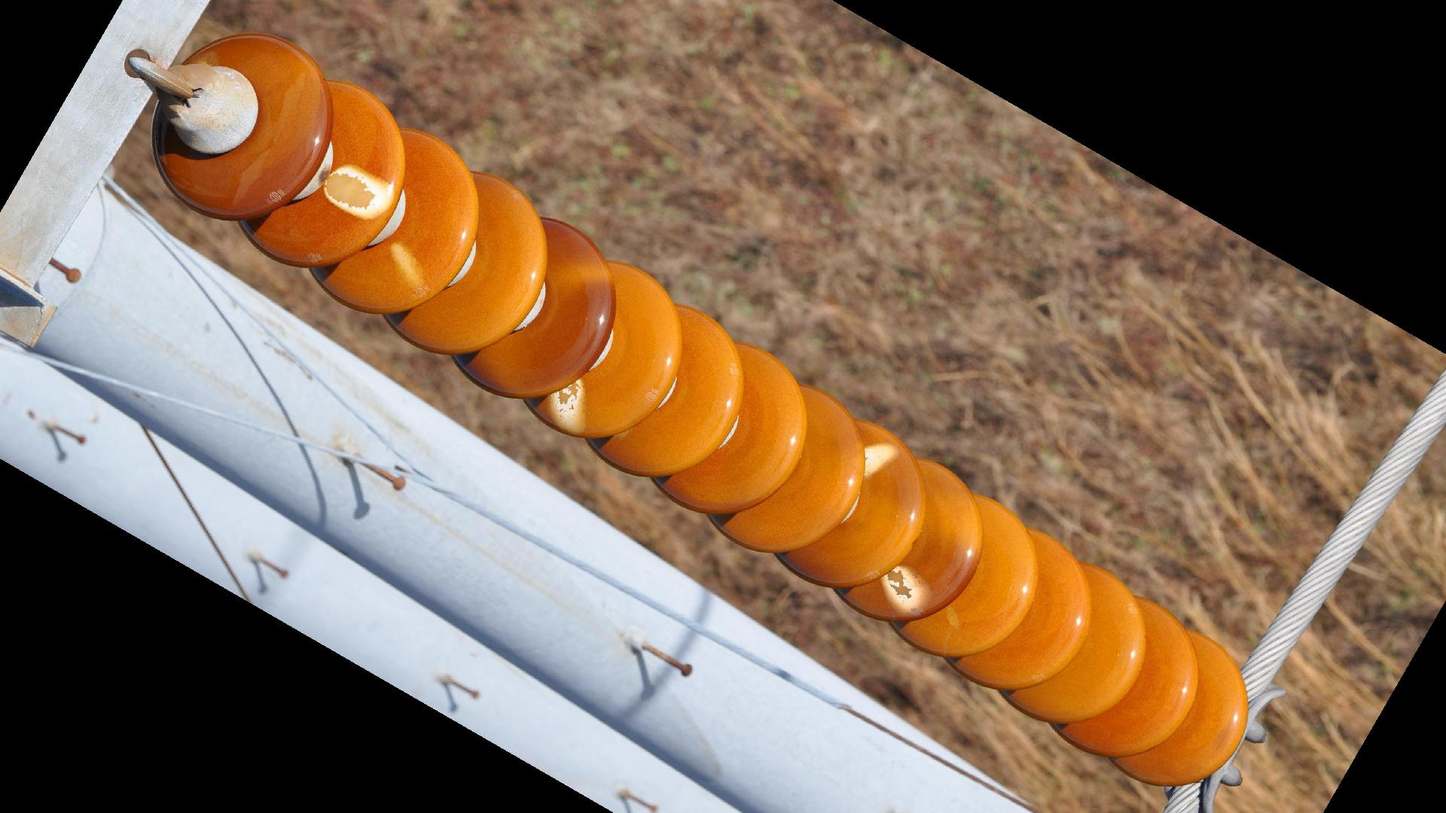insulator: (142, 28, 1255, 790)
insulator_flashover: (320, 161, 395, 224), (880, 563, 935, 622), (548, 376, 590, 438), (384, 237, 426, 293), (861, 437, 902, 482)
